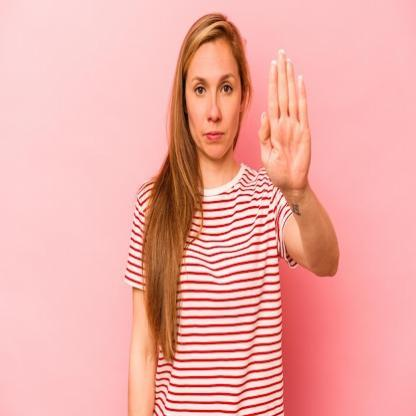stop: (256, 48, 316, 200)
